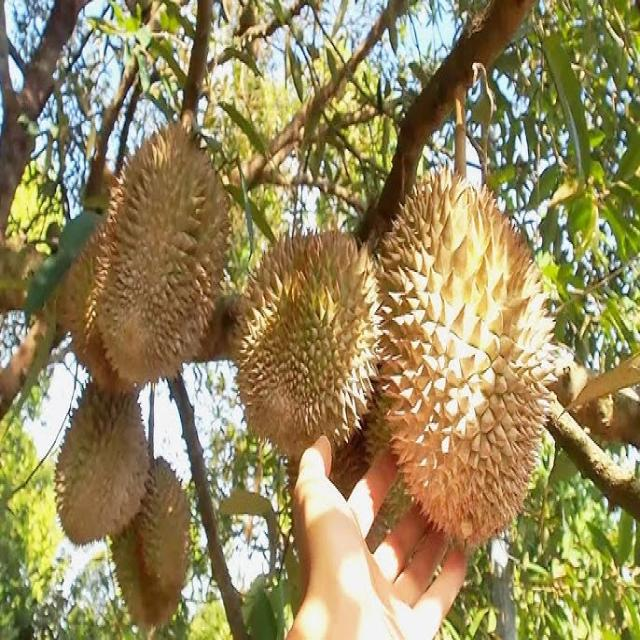mature: (373, 166, 556, 548), (90, 128, 226, 391), (235, 237, 381, 460), (51, 384, 146, 548), (114, 454, 193, 633)
